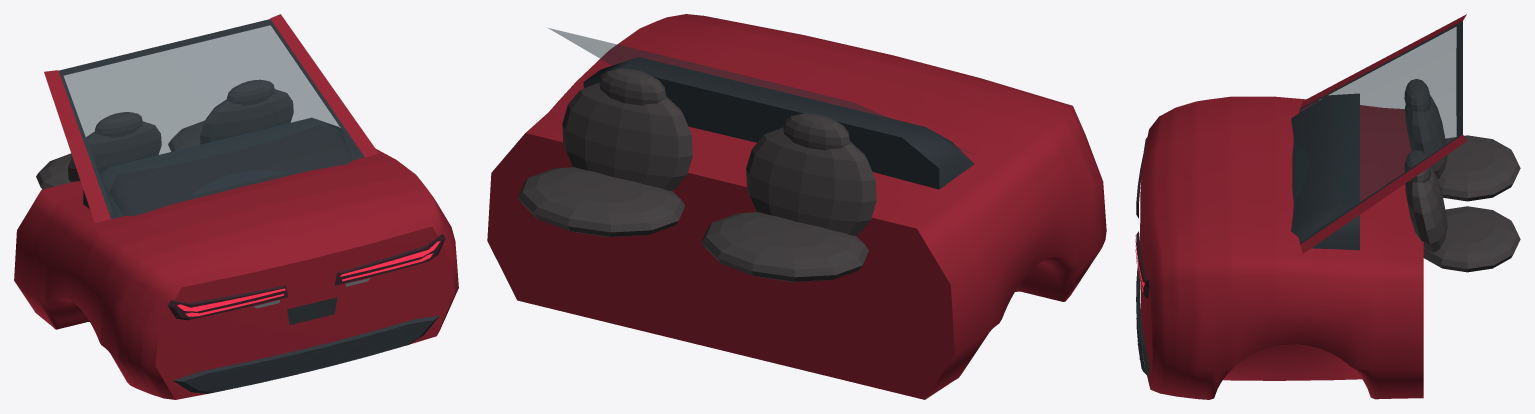
The model's file is rear_lod0.gltf.
3 renders of one model, left to right at view 1: azimuth 30°, elevation 25°; view 2: azimuth 150°, elevation 25°; view 3: azimuth 270°, elevation 25°, orthographic. The views are drawn at different scales.
Visible parts, largest first — view 1: RearHatchSolid, RearGlass, RearCabinBulkhead, RearBench, HatchFrame, RearLowerTrim, LampHousingL, LampHousingR, BrakeLensL, BrakeLensR; view 2: RearHatchSolid, RearBench, RearCabinBulkhead, RearGlass; view 3: RearHatchSolid, RearGlass, RearBench, RearCabinBulkhead, HatchFrame, RearLowerTrim, LampHousingR.
Boxes of the visible parts, left/top/right/bottom form: RearHatchSolid: left=14, top=148, right=458, bottom=399; RearGlass: left=61, top=24, right=359, bottom=216; RearCabinBulkhead: left=83, top=117, right=359, bottom=216; RearBench: left=36, top=79, right=293, bottom=189; HatchFrame: left=44, top=14, right=378, bottom=222; RearLowerTrim: left=173, top=297, right=439, bottom=393; LampHousingL: left=167, top=285, right=288, bottom=320; LampHousingR: left=334, top=234, right=445, bottom=285; BrakeLensL: left=177, top=288, right=285, bottom=316; BrakeLensR: left=340, top=241, right=440, bottom=281; RearHatchSolid: left=487, top=14, right=1106, bottom=399; RearBench: left=518, top=68, right=876, bottom=281; RearCabinBulkhead: left=583, top=57, right=974, bottom=189; RearGlass: left=548, top=28, right=974, bottom=154; RearHatchSolid: left=1140, top=96, right=1423, bottom=399; RearGlass: left=1295, top=25, right=1456, bottom=241; RearBench: left=1404, top=79, right=1520, bottom=272; RearCabinBulkhead: left=1291, top=93, right=1359, bottom=250; HatchFrame: left=1292, top=14, right=1466, bottom=253; RearLowerTrim: left=1136, top=264, right=1149, bottom=375; LampHousingR: left=1136, top=231, right=1149, bottom=298.
Bounding box in the file's own units: 2.35 × 1.46 × 2.11.
